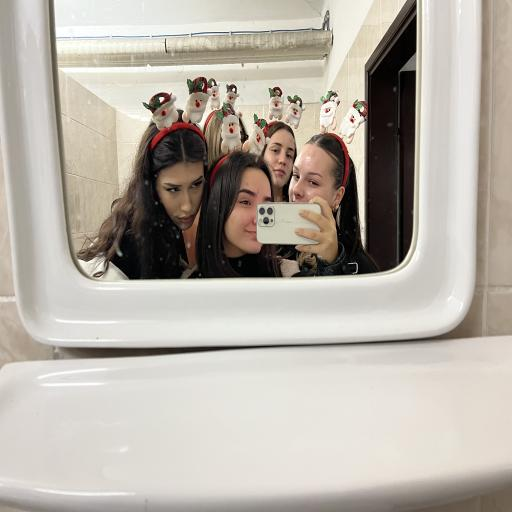marija: (291, 143, 340, 200)
masa: (272, 130, 290, 185)
